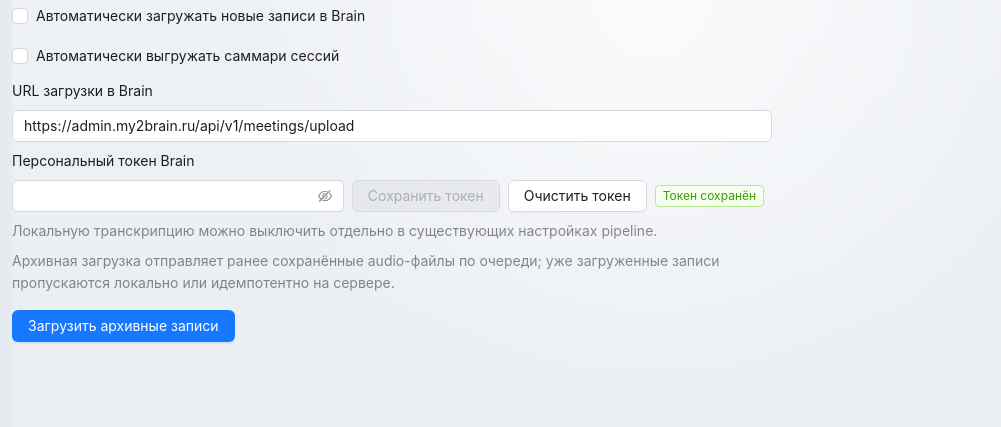
BrainSyncSettings › uploads archive when URL is valid and token is saved even if auto-upload is off
Click the button "Загрузить архивные записи" at (123, 326), box [12,310,235,342]
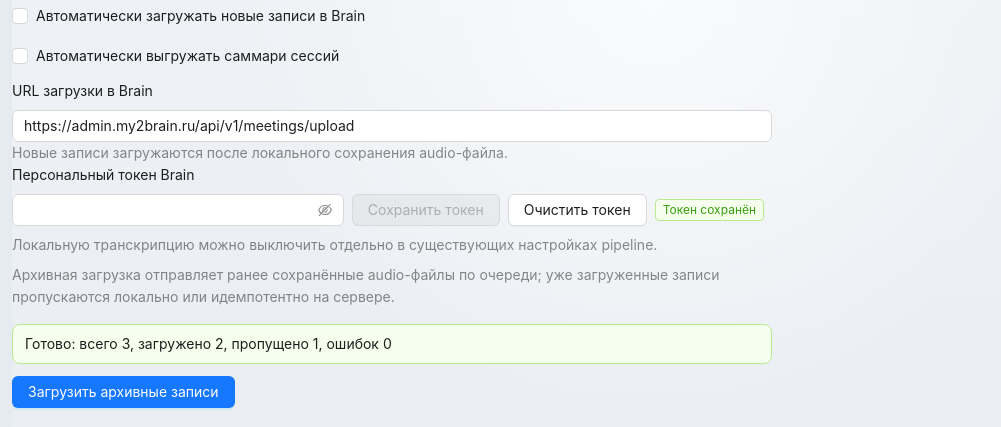
Now the text "Готово: всего 3, загружено 2, пропущено 1, ошибок 0" is shown, box [25,335,392,352]
